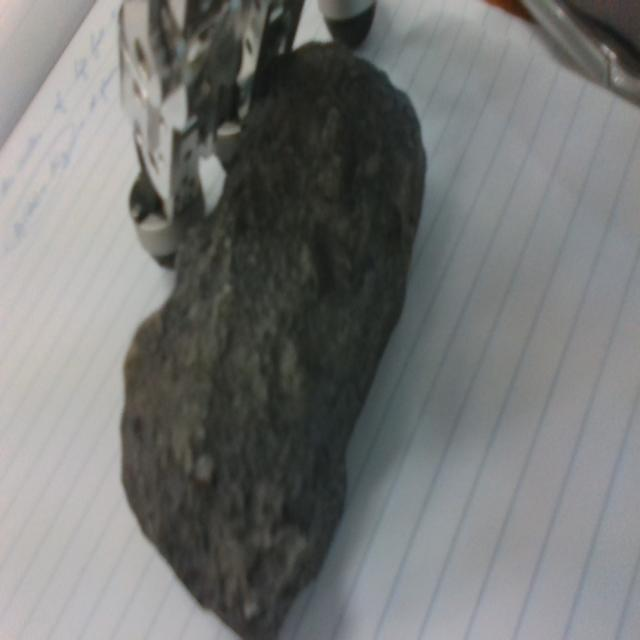stone: (120, 41, 427, 640)
